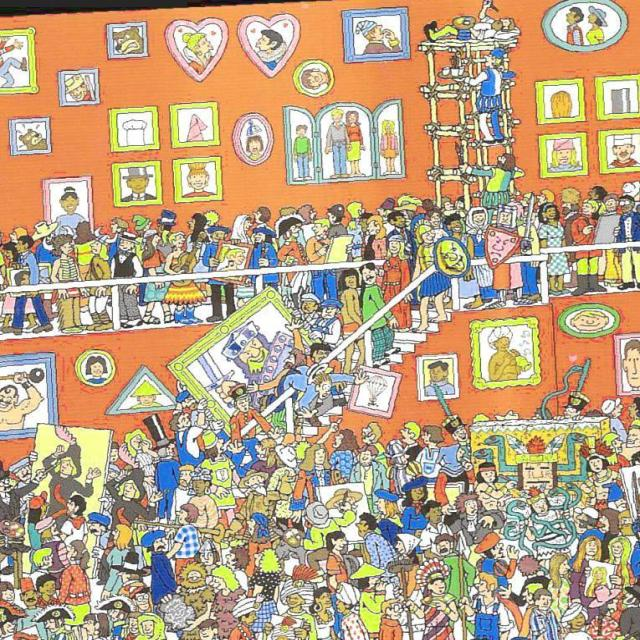waldo: (124, 584, 150, 610)
